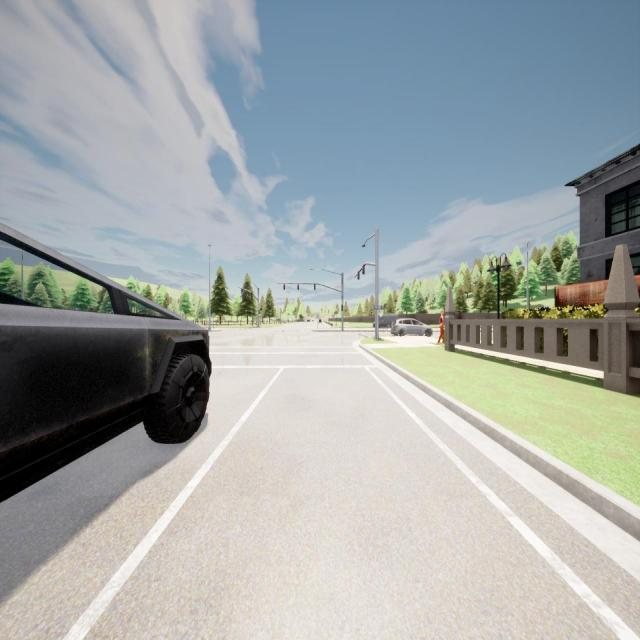Pedestrian: (436, 309, 444, 344)
Traffic_Signs: (372, 305, 383, 312), (316, 313, 319, 319)
Vehicle: (0, 223, 211, 501), (391, 318, 433, 338), (318, 318, 322, 324)
traffic_light: (362, 264, 365, 274), (357, 272, 359, 280), (283, 283, 285, 290), (314, 284, 316, 290), (341, 304, 343, 310), (298, 284, 299, 290)
